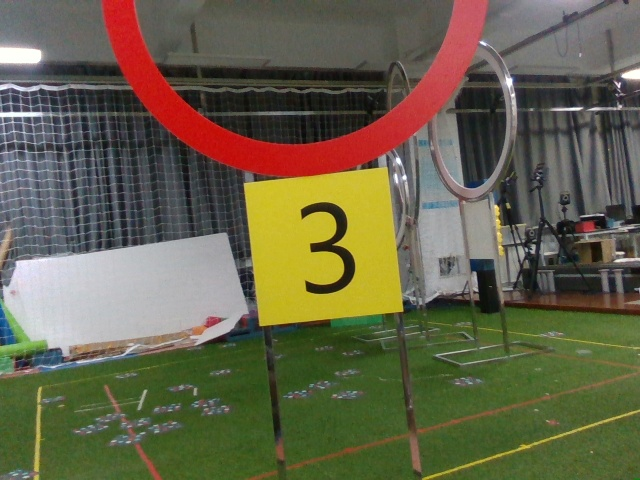target: (252, 179, 397, 323)
